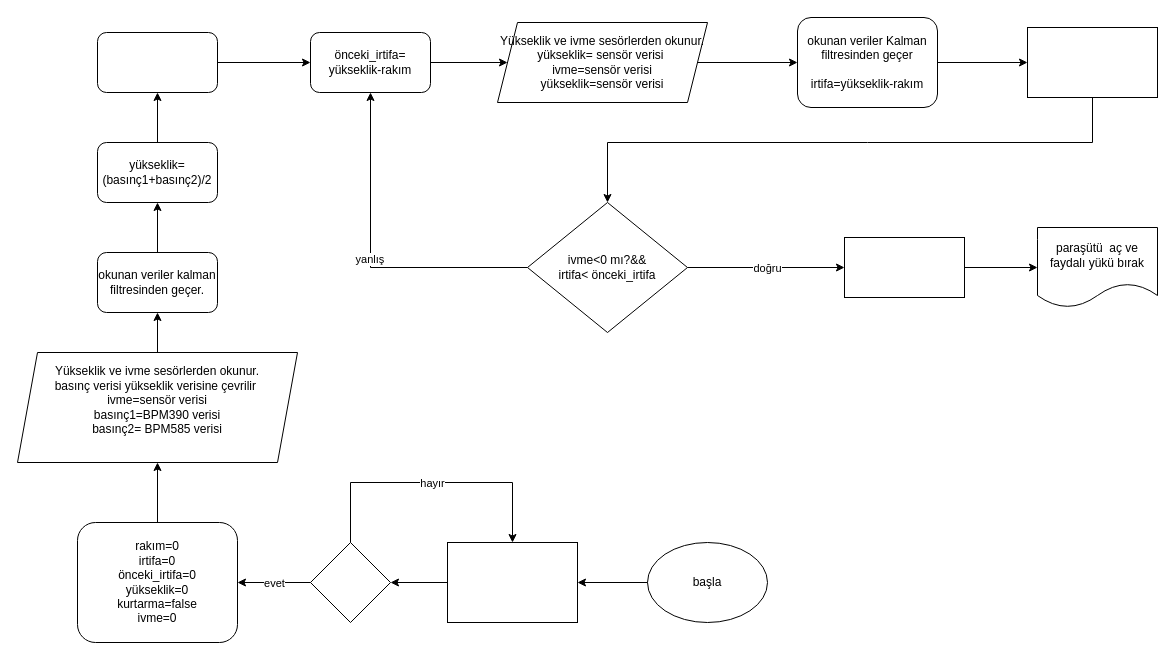
Image size: 1175x660. Some labels were removed from this diagram. Here are the shapes that lost their labels. From the top down, the centre of each, then its label:
the point at 157,62: rakım= yükseklik
the point at 1092,62: Ebyte E22-900T30S LoRa modülü ile verileri yer istasyonuna yolla VE SD karta yaz
the point at 904,267: kurtarma=True
the point at 350,582: tamamı işlevsel mi?
the point at 512,582: Sensörleri başlat (BNO055, BMP390, BPM585 GNSS). SD kartı ve LoRa'yı kontrol et.
